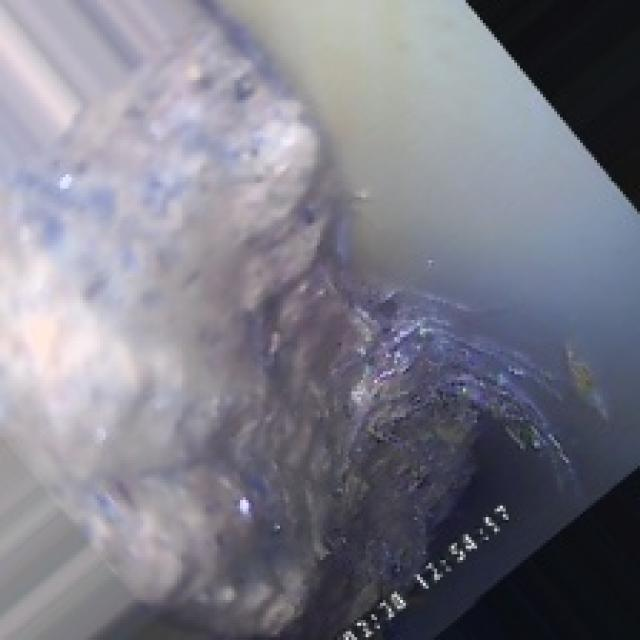sluge accumulation: (103, 71, 563, 508)
